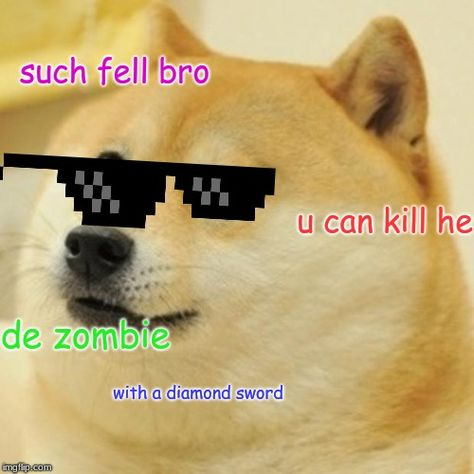doge: (19, 1, 433, 456)
